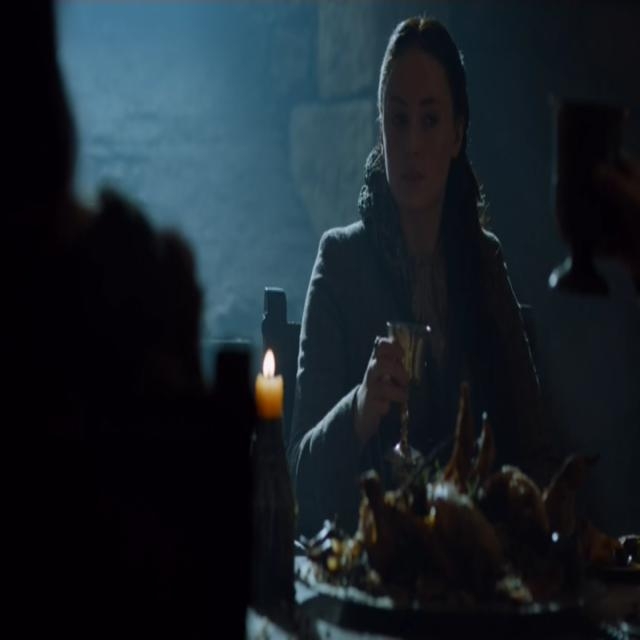Cup: (542, 103, 640, 305), (392, 302, 429, 479)
People: (17, 11, 238, 640), (342, 0, 547, 640)
